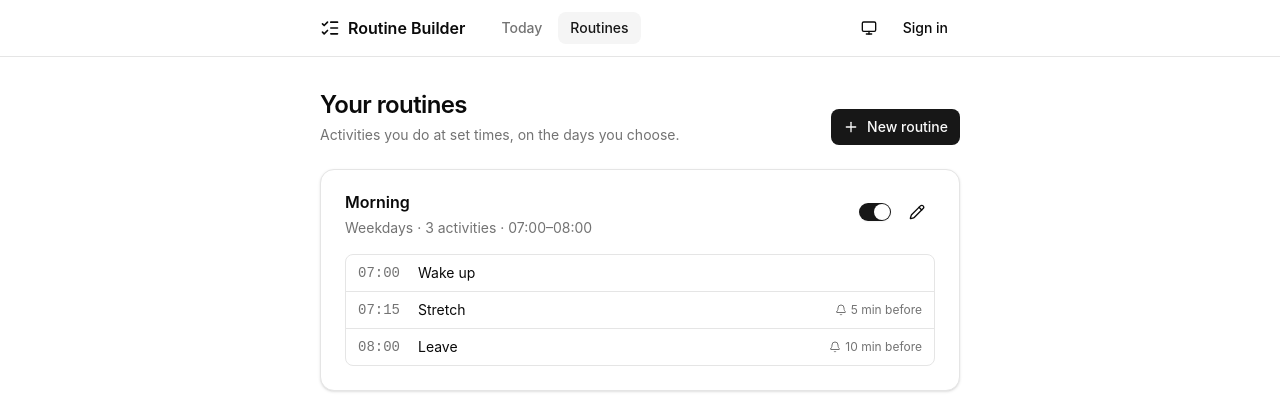
Scenario: routine list › turns a routine off and saves it
Expected: the heading "Routine Builder" is shown, x1=348 y1=16 x2=465 y2=40
Step 1. Click the switch named "Morning is on" → point(875, 212), box x1=859 y1=203 x2=891 y2=221
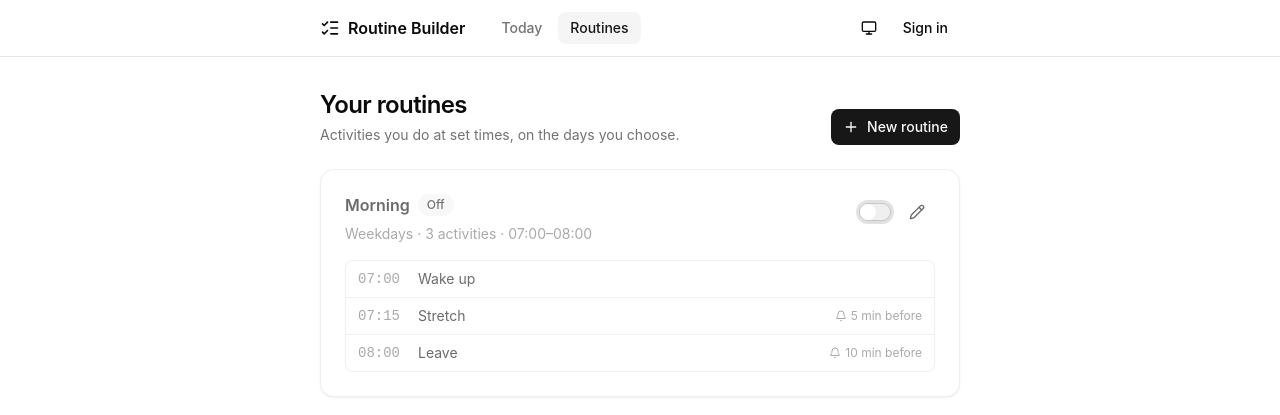
Now the switch named "Morning is off" is not checked, box x1=859 y1=203 x2=891 y2=221
Now the text "Off" is shown, box x1=418 y1=194 x2=454 y2=216
